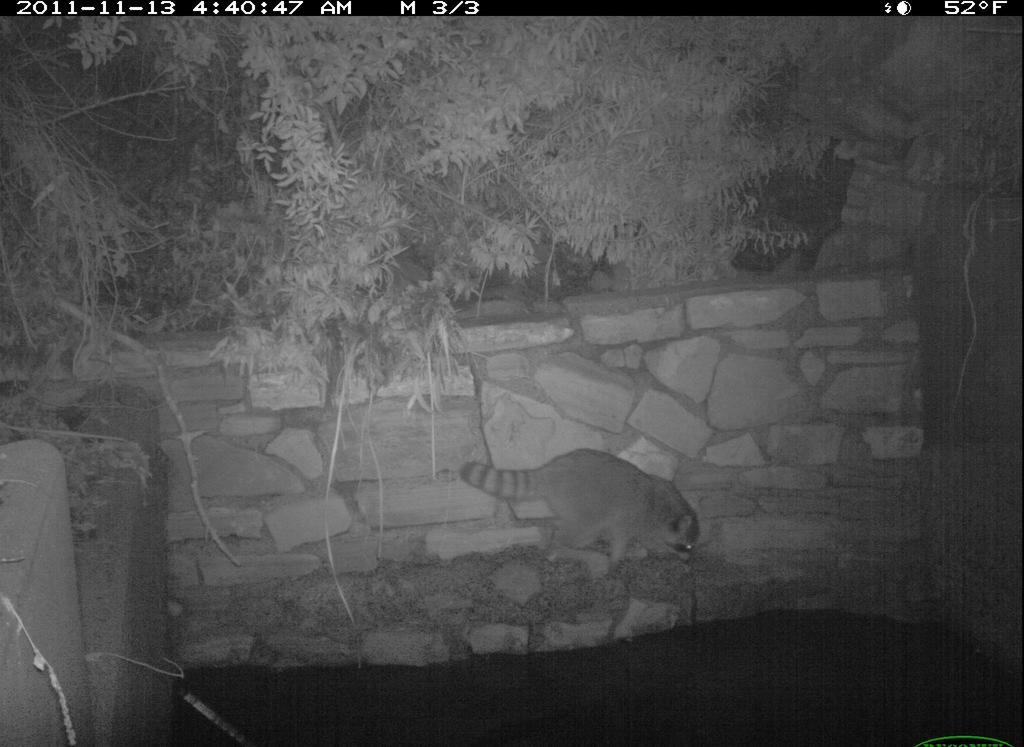raccoon: (452, 427, 717, 580)
